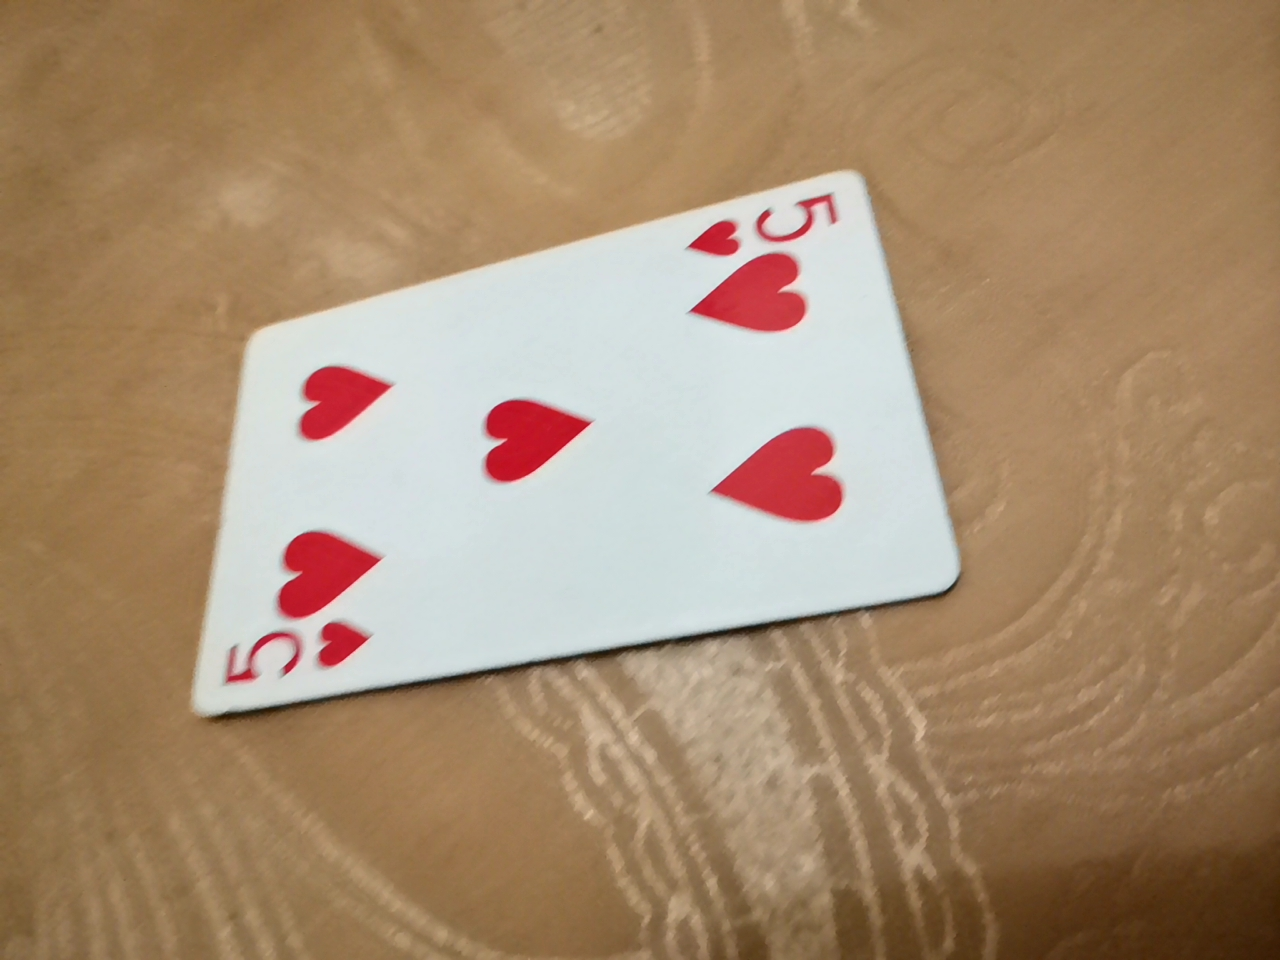hx 5: (109, 244, 899, 817)
